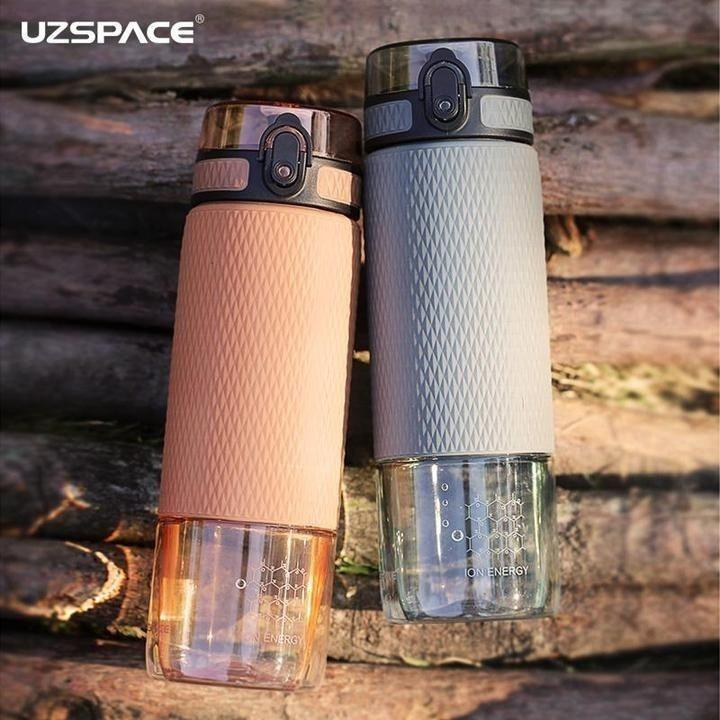gym bottle: (142, 98, 361, 693), (356, 32, 561, 628)
